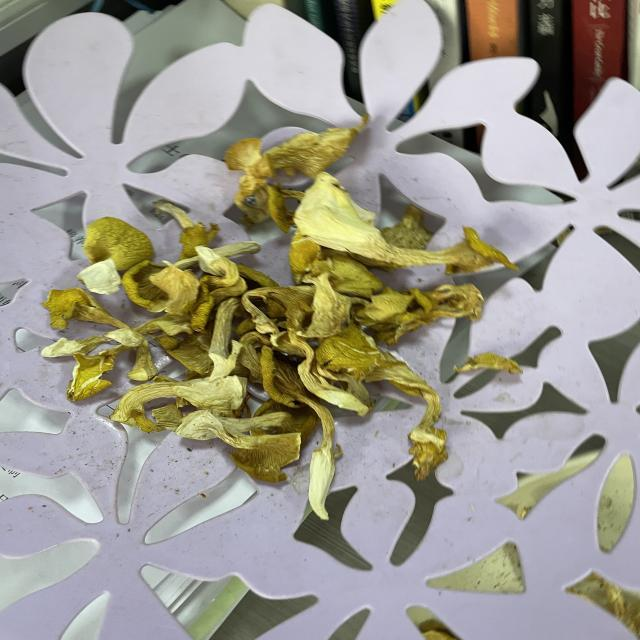Pleurotus citrinopileatus: (165, 89, 640, 449)
